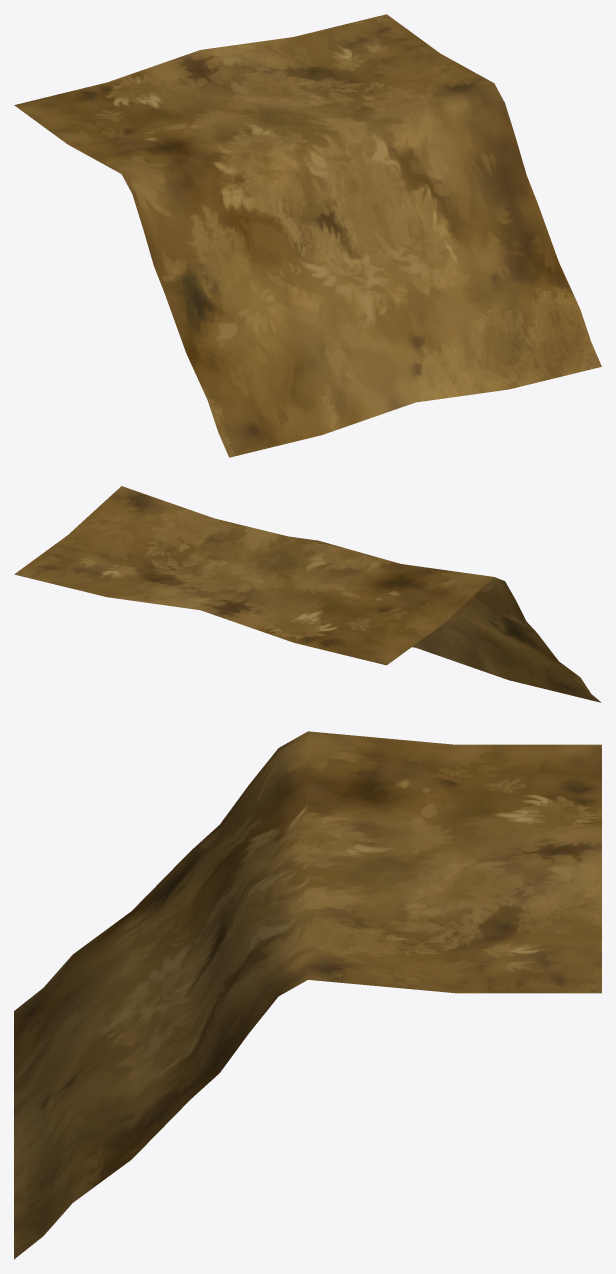
Rendered from Levelled_Slope_001.fbx.
The picture shows the model from 3 angles, top to bottom: view 1: azimuth 30°, elevation 25°; view 2: azimuth 150°, elevation 25°; view 3: azimuth 270°, elevation 25°; orthographic projection. The views are drawn at different scales.
Parts seen in each view (by area): view 1: Levelled_Slope_001; view 2: Levelled_Slope_001; view 3: Levelled_Slope_001.
Boxes of the visible parts, box(x1,y1,x2,y2) form: Levelled_Slope_001: box(14, 14, 601, 457); Levelled_Slope_001: box(14, 486, 601, 702); Levelled_Slope_001: box(14, 731, 601, 1259).
Size of the model in its own units: 10 by 5.25 by 10.
Materials: 1 (1 with a texture image).
